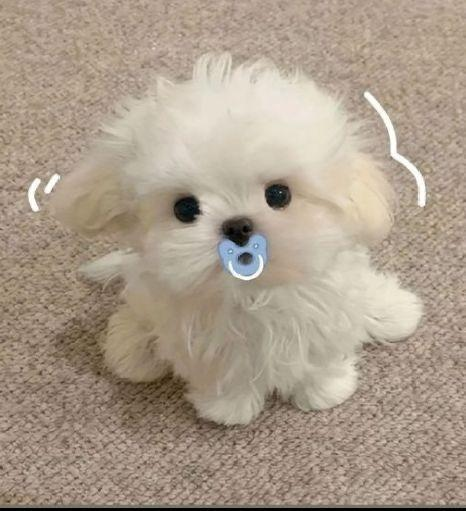non-dog: (45, 50, 426, 429)
